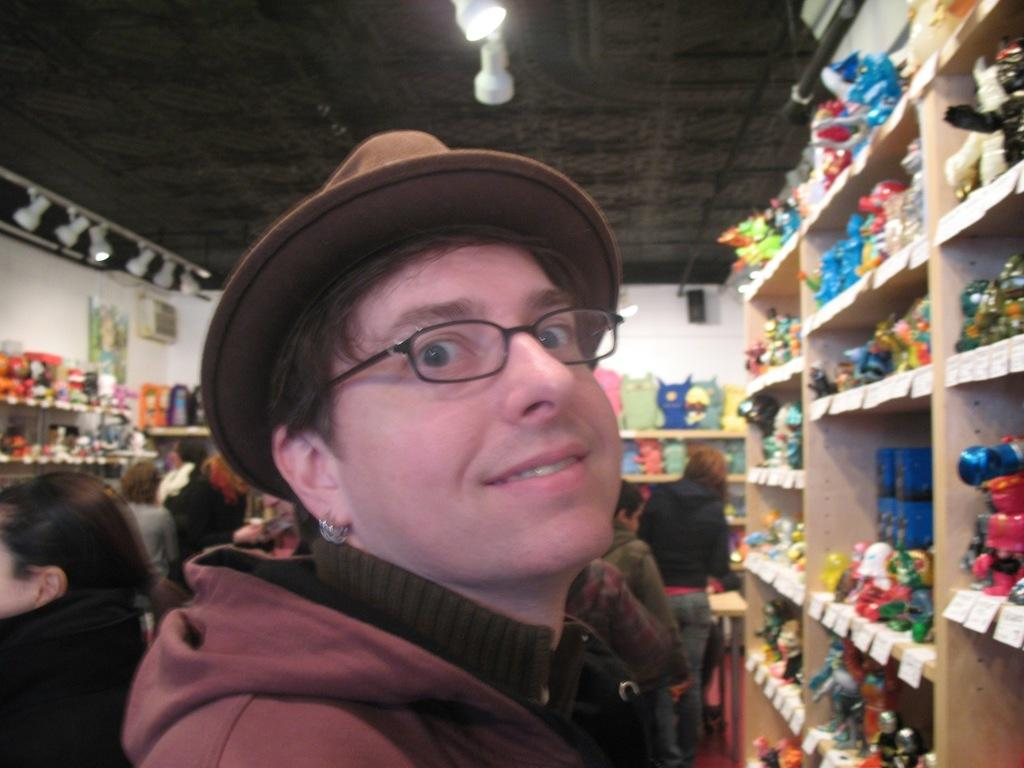Hat: (198, 127, 620, 507)
